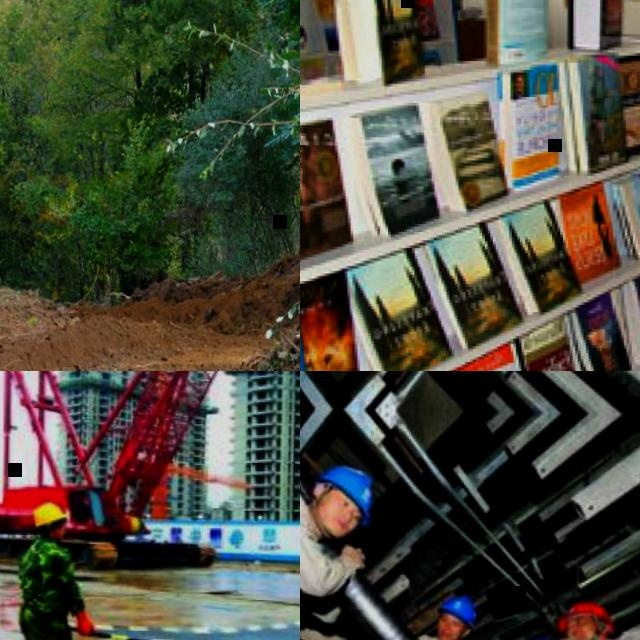Hardhat: (317, 465, 376, 518), (556, 600, 616, 632), (434, 595, 478, 629), (32, 500, 65, 527)
NO-Mask: (317, 510, 352, 534), (571, 626, 603, 640), (50, 526, 67, 539), (437, 629, 455, 640)
NO-Safety Vest: (20, 541, 71, 615)
Person: (16, 498, 98, 640)
